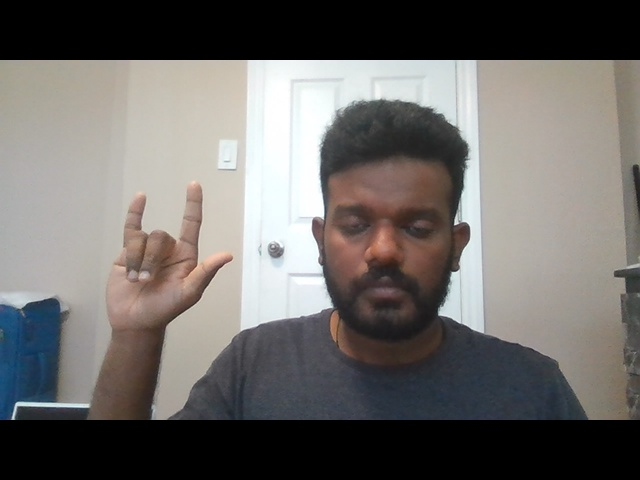iloveyou: (99, 175, 235, 331)
